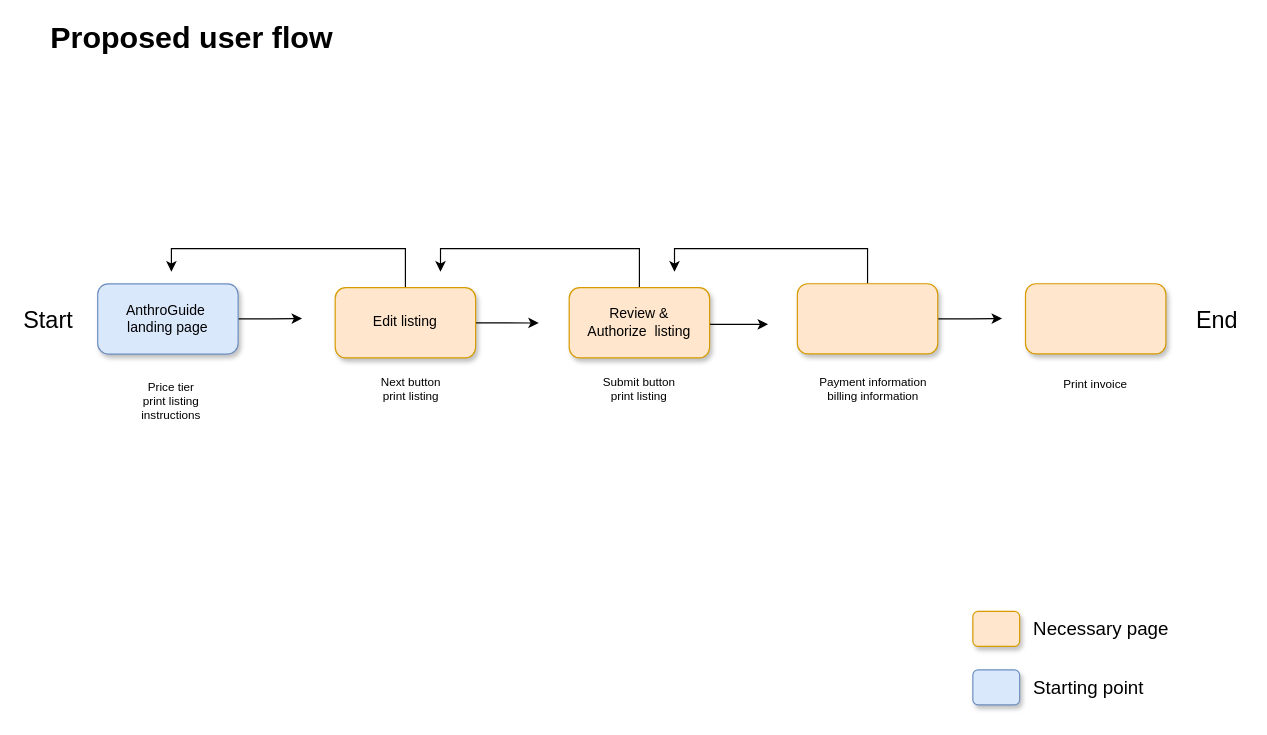
Some shapes in this 1267 by 735 pixel diagram are drawn without their labels. Each missing label, with the centre of its shape:
"Confirmation page" belongs at pixel 1096 320.
"Payment page" belongs at pixel 868 320.
